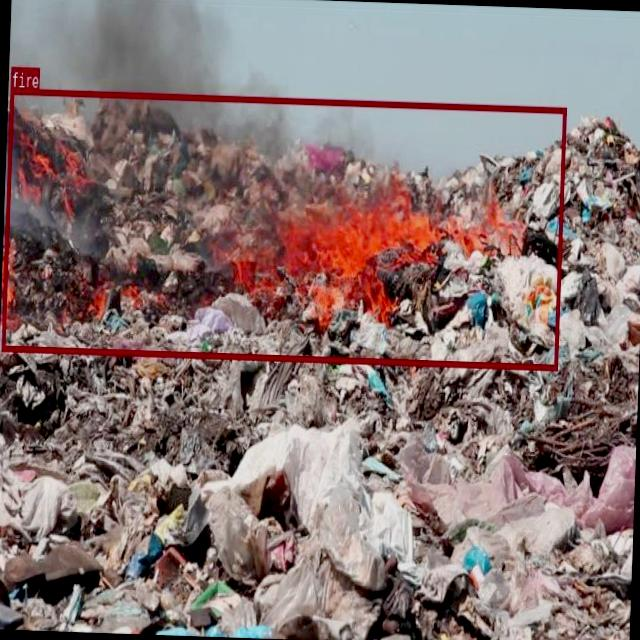fire: (0, 87, 566, 369)
